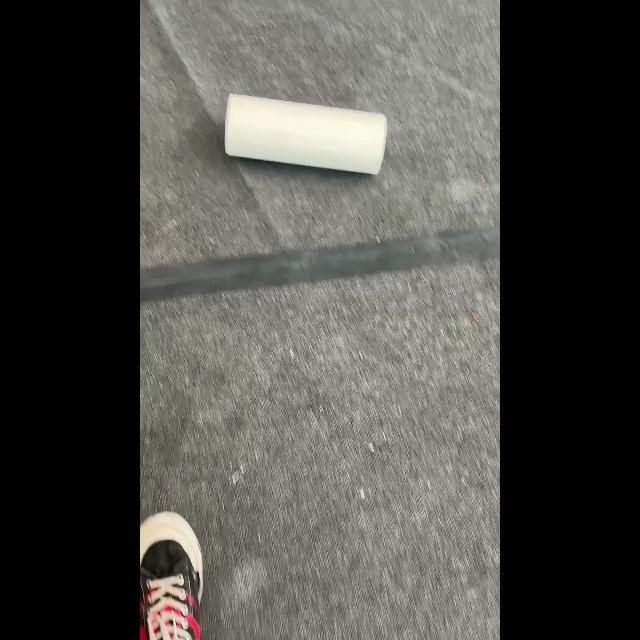CORAL: (223, 92, 387, 176)
